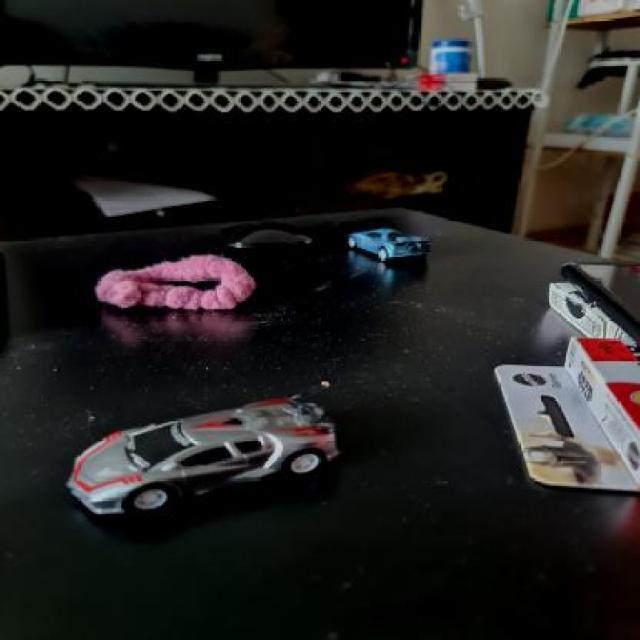car: (60, 395, 365, 523), (338, 222, 449, 262)
